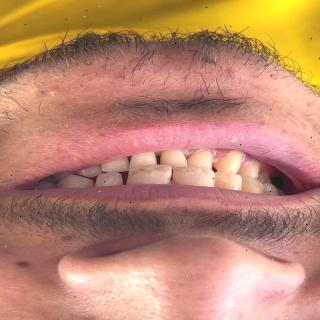maligned: (91, 172, 125, 188), (103, 159, 129, 173)
